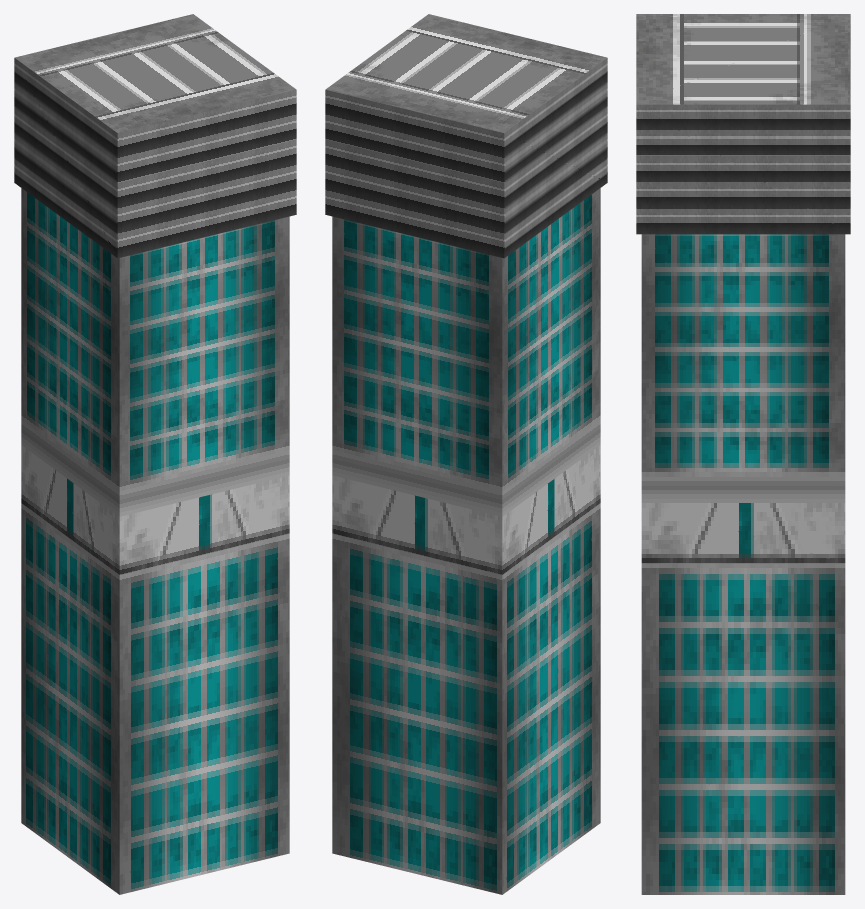
File: building1.glb
3 renders of one model, left to right at view 1: azimuth 30°, elevation 25°; view 2: azimuth 150°, elevation 25°; view 3: azimuth 270°, elevation 25°, orthographic. The views are drawn at different scales.
Visible parts, largest first — view 1: building1; view 2: building1; view 3: building1.
Boxes of the visible parts, bbox=[...] form: building1: bbox=[14, 14, 296, 894]; building1: bbox=[325, 14, 607, 894]; building1: bbox=[636, 14, 850, 894].
Size of the model in its own units: 6.65 by 27.17 by 6.65.
Materials: 4 (4 with a texture image).
